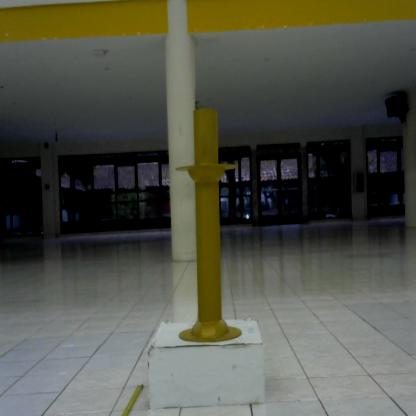pole: (170, 105, 249, 349)
